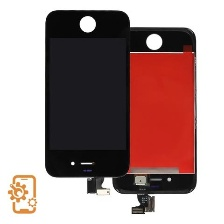phone: (41, 8, 134, 182), (110, 23, 199, 198)
